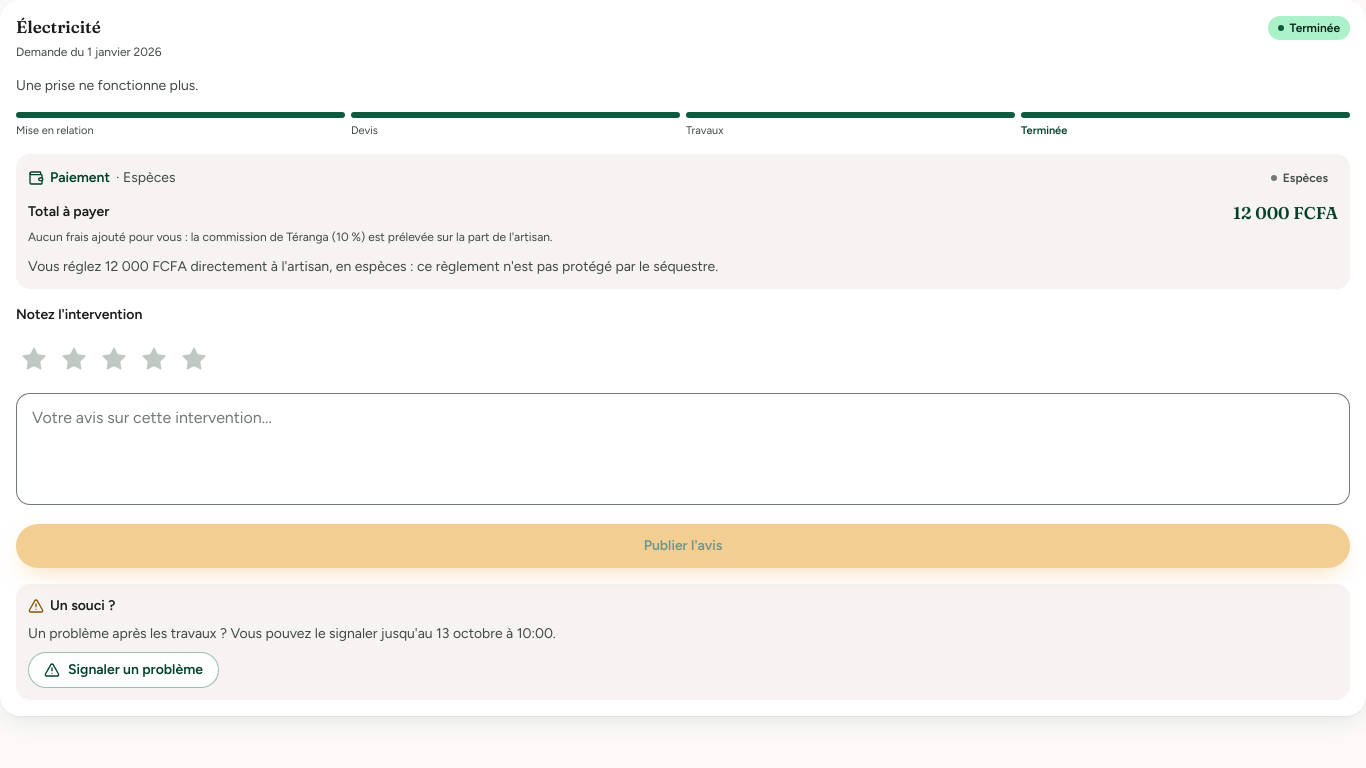
Test case: InterventionCard › encart « Un souci ? » › après les travaux, propose de signaler un problème jusqu'à la limite donnée par le serveur
Expected: the text "Vous pouvez le signaler jusqu'au 13 octobre" is shown, 28,625 -> 556,642
Click the button "Signaler un problème": click(124, 670) 28,652 -> 219,688
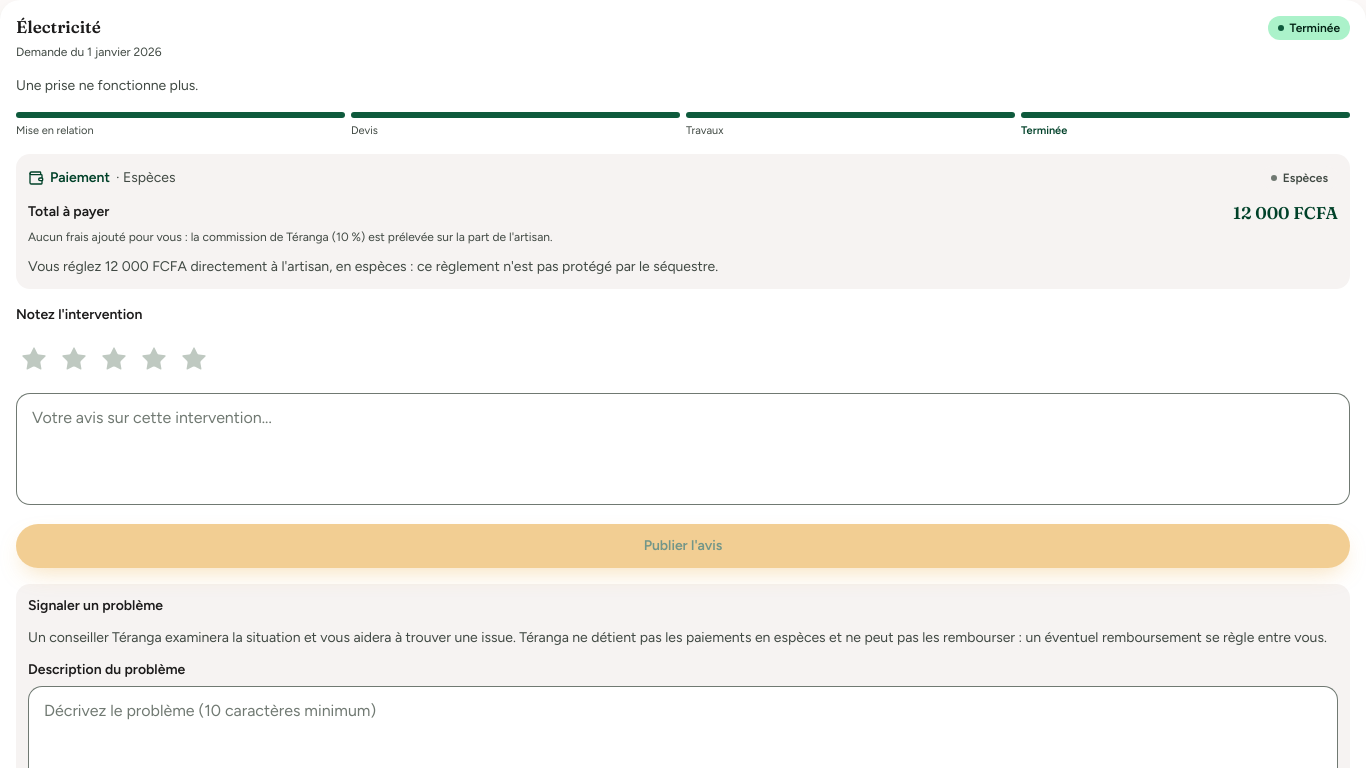
Expected: the text "ne peut pas les rembourser" is shown, 28,629 -> 1327,646
